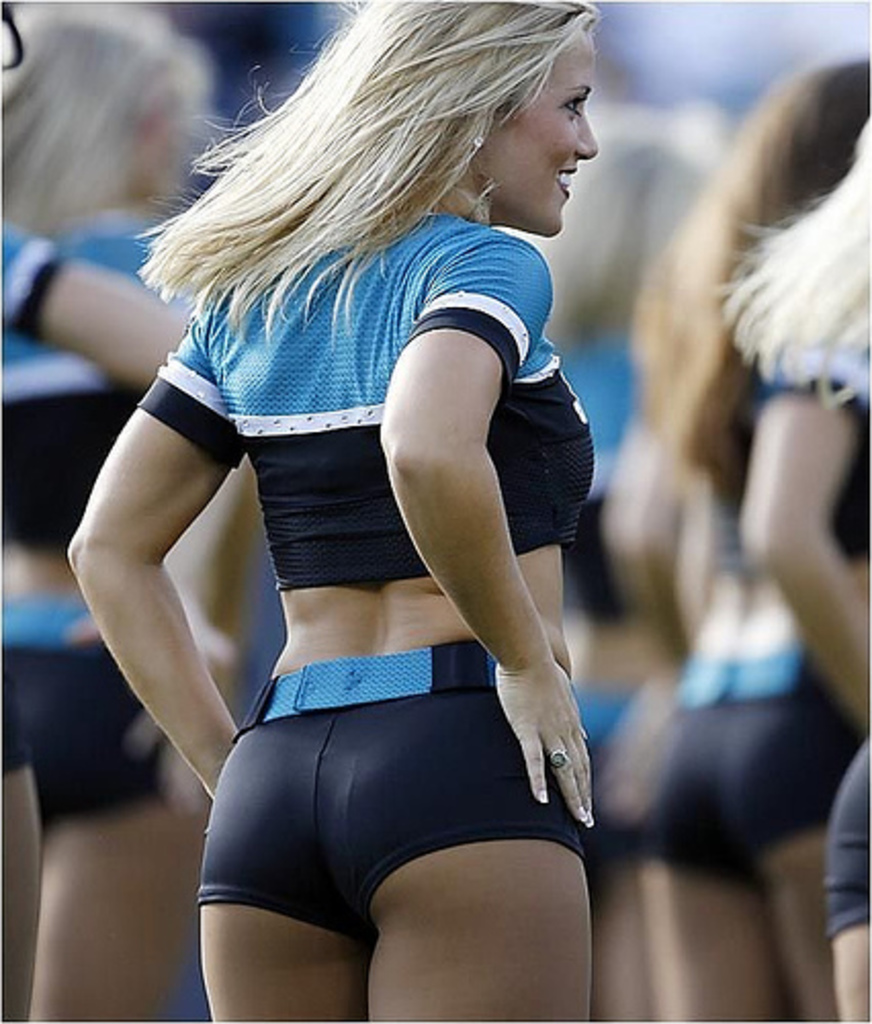person: (0, 2, 207, 395)
